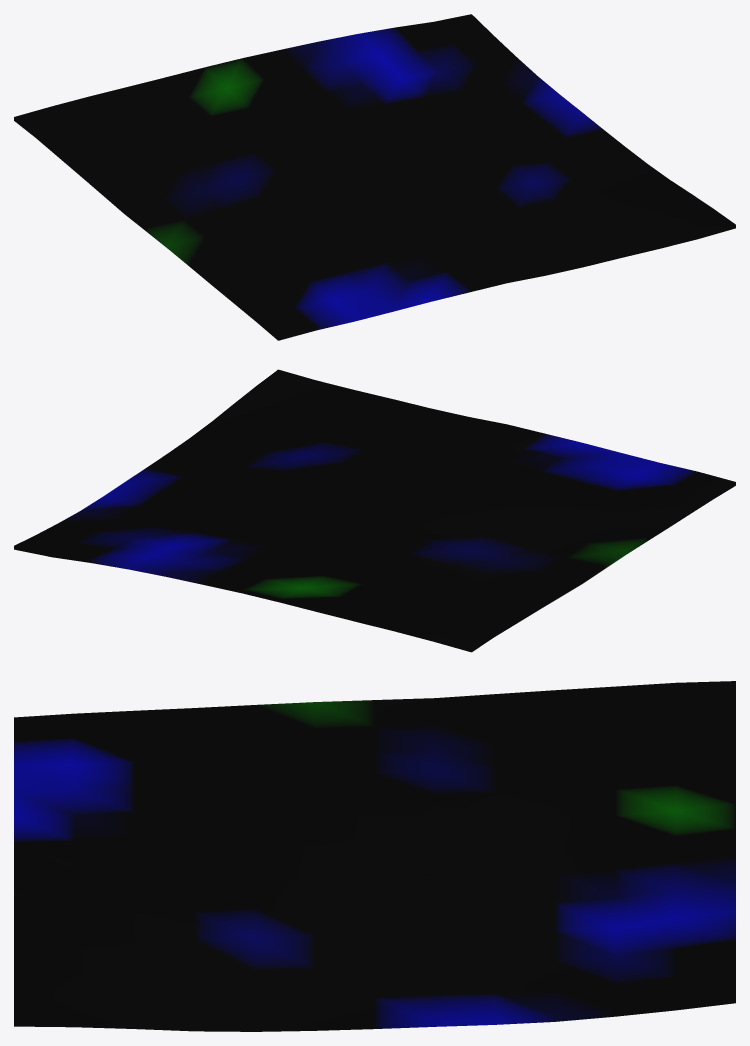
The model's file is coast_3_4.glb.
The picture shows the model from 3 angles, top to bottom: view 1: azimuth 30°, elevation 25°; view 2: azimuth 150°, elevation 25°; view 3: azimuth 270°, elevation 25°; orthographic projection. The views are drawn at different scales.
Parts seen in each view (by area): view 1: terrain; view 2: terrain; view 3: terrain.
Boxes of the visible parts, box(x1,y1,x2,y2) form: terrain: box(14, 14, 735, 340); terrain: box(14, 369, 735, 652); terrain: box(14, 681, 735, 1031).
Bounding box in the file's own units: 192 × 14.69 × 192.
